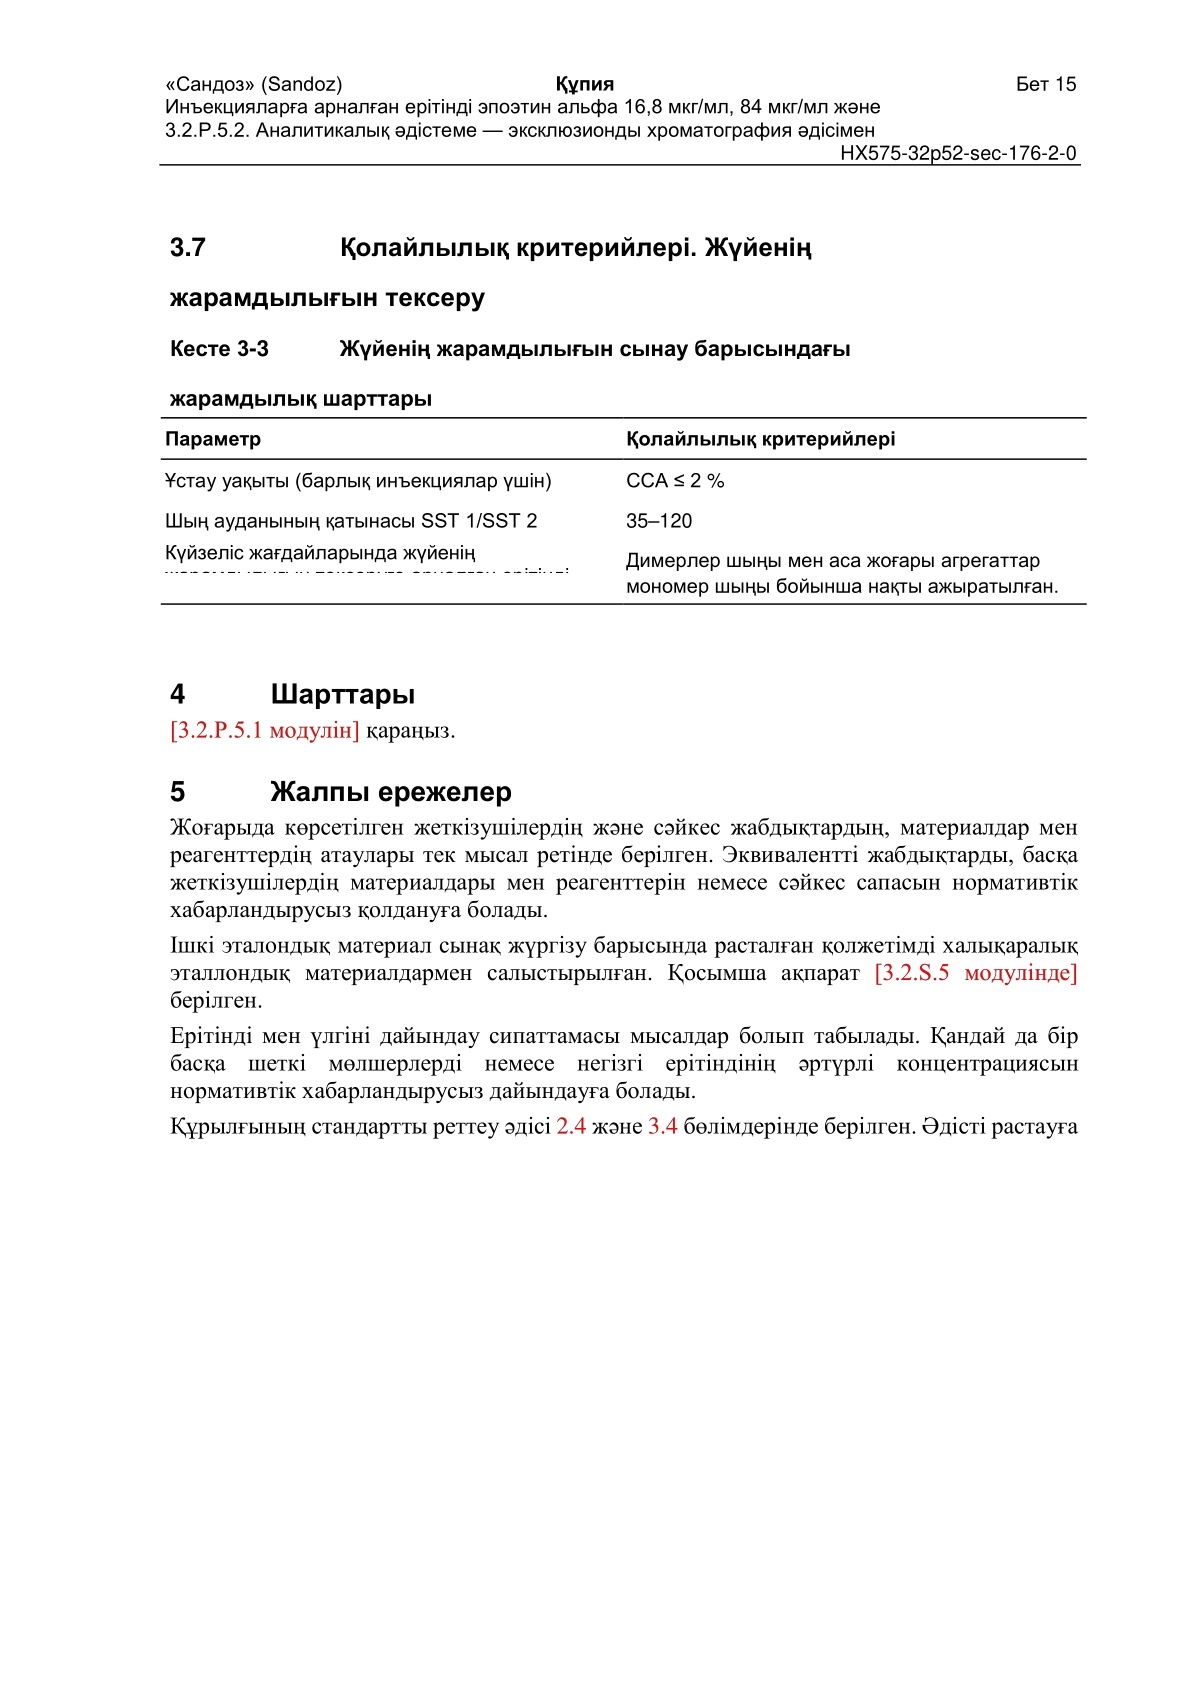partial_lined: (159, 416, 1088, 606)
